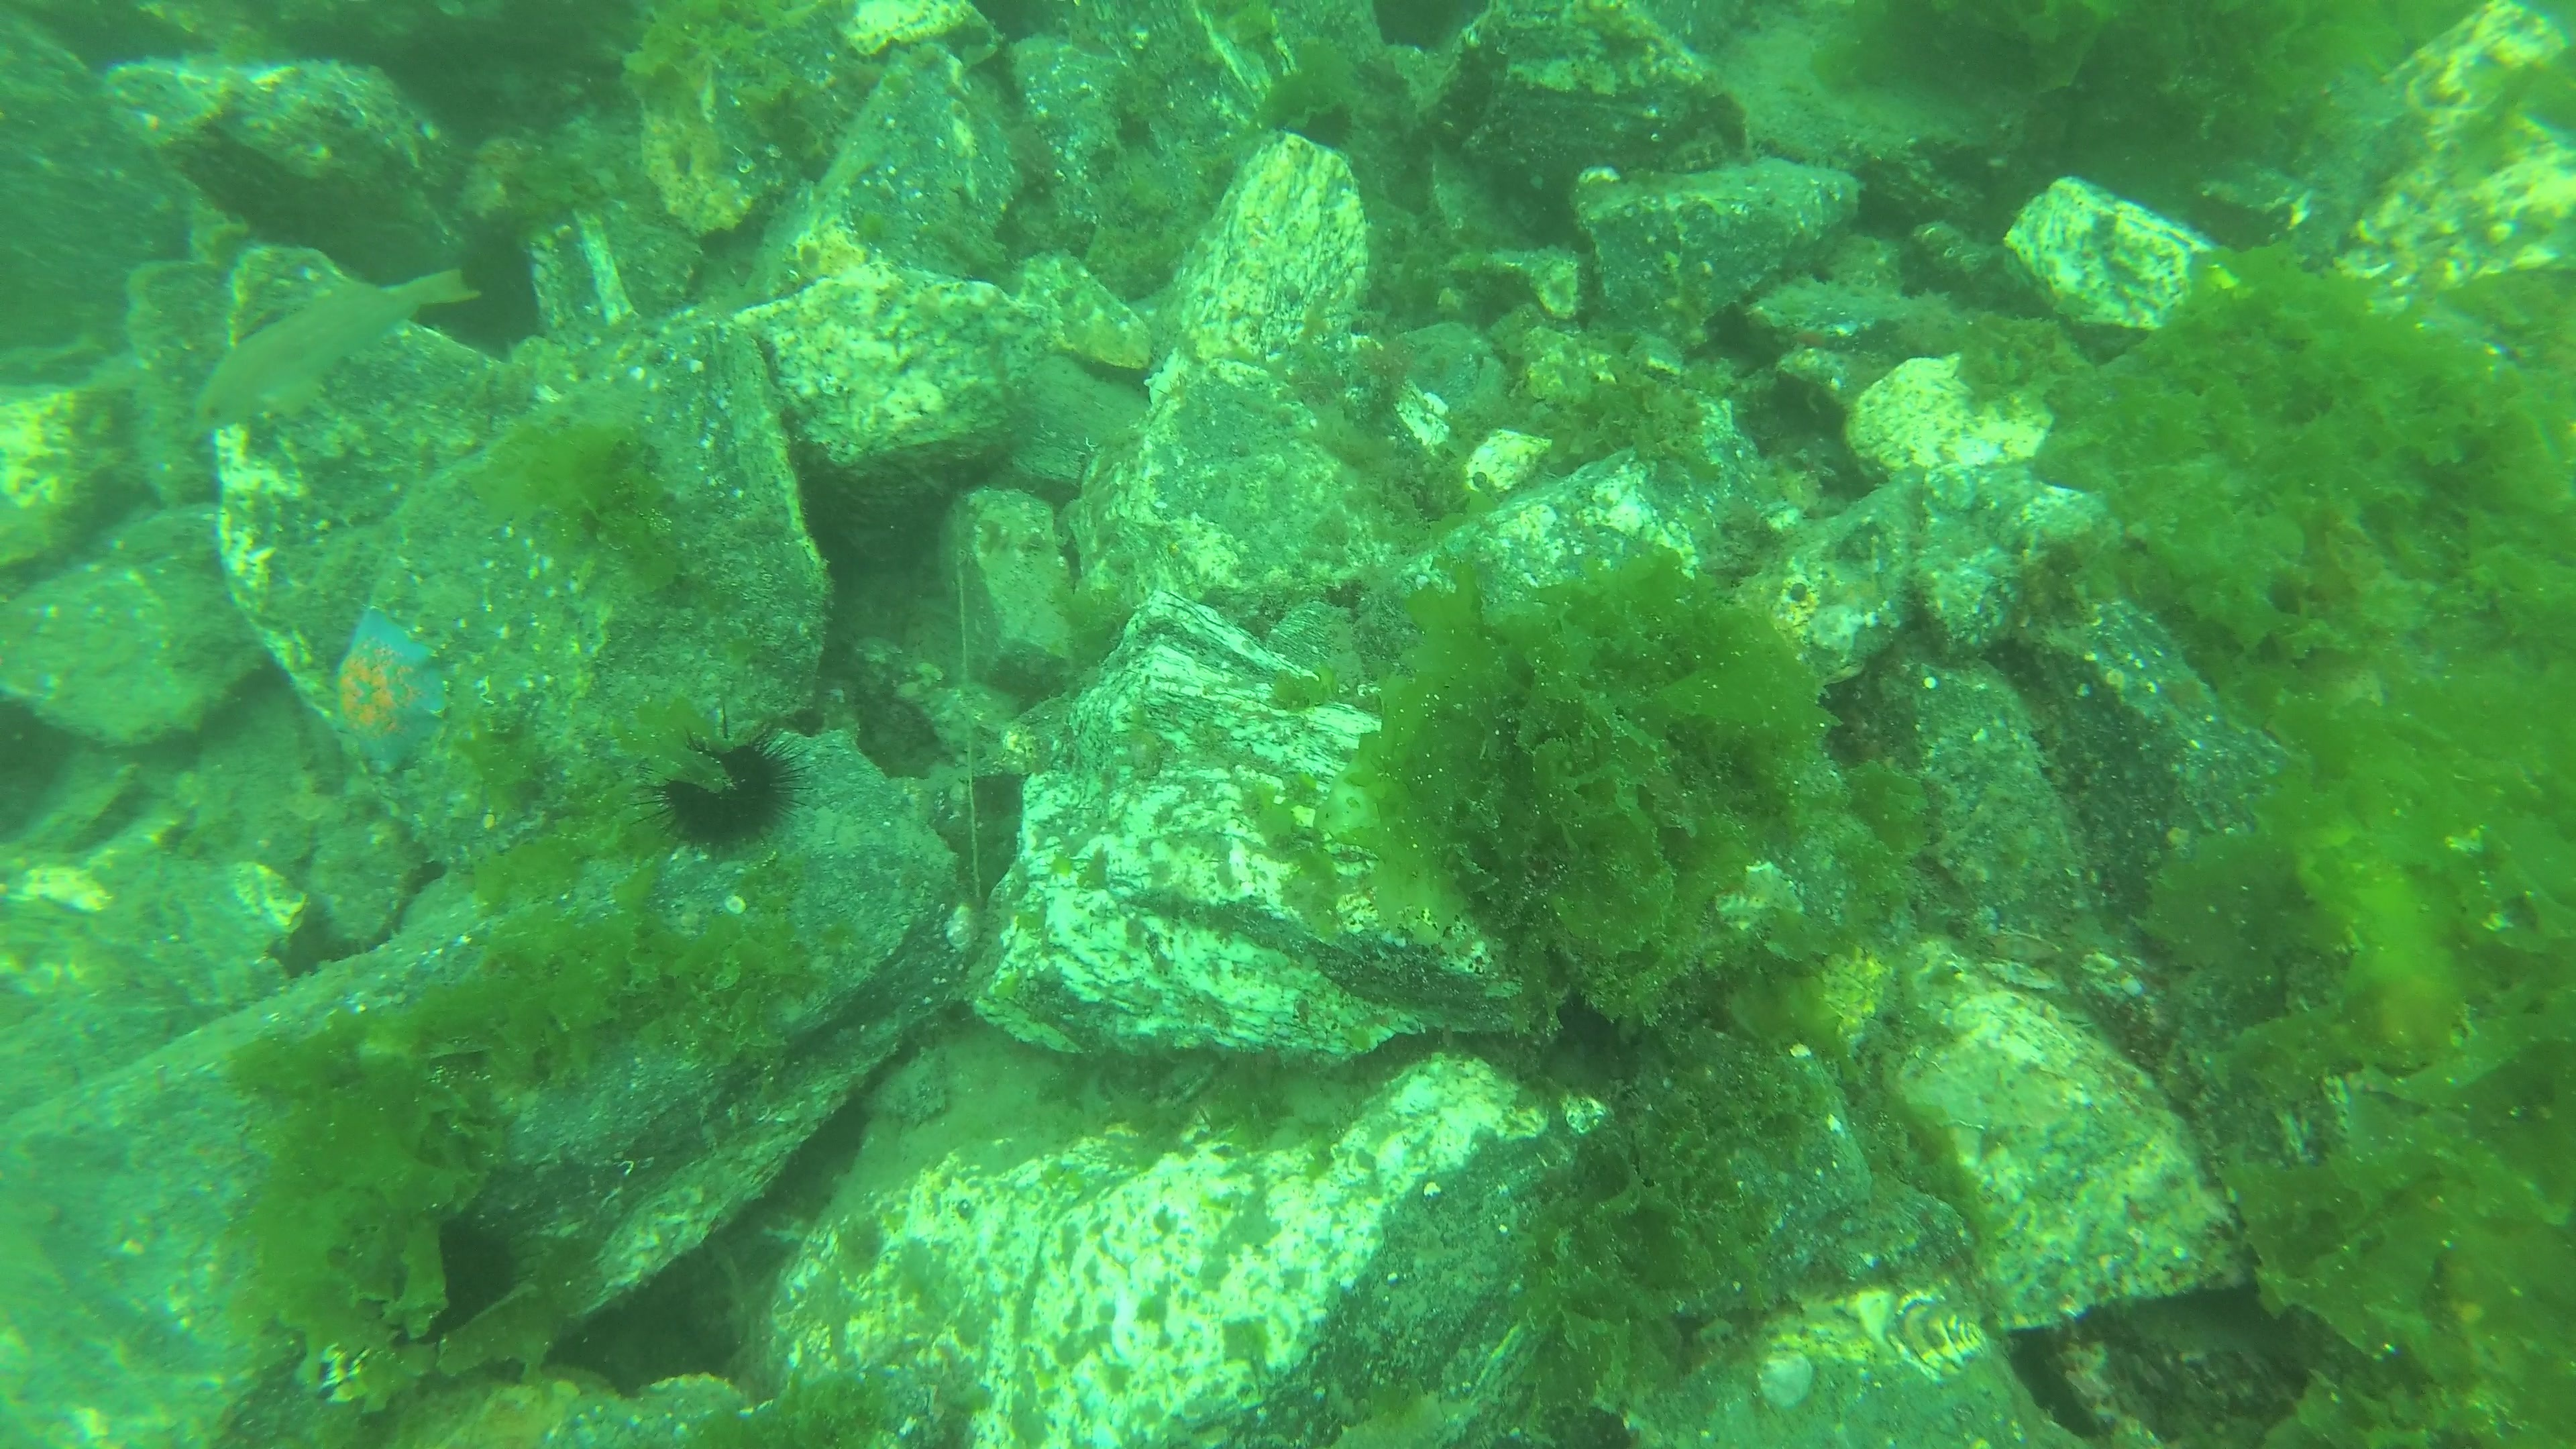echinus: (635, 713, 817, 856)
starfish: (327, 594, 460, 786)
